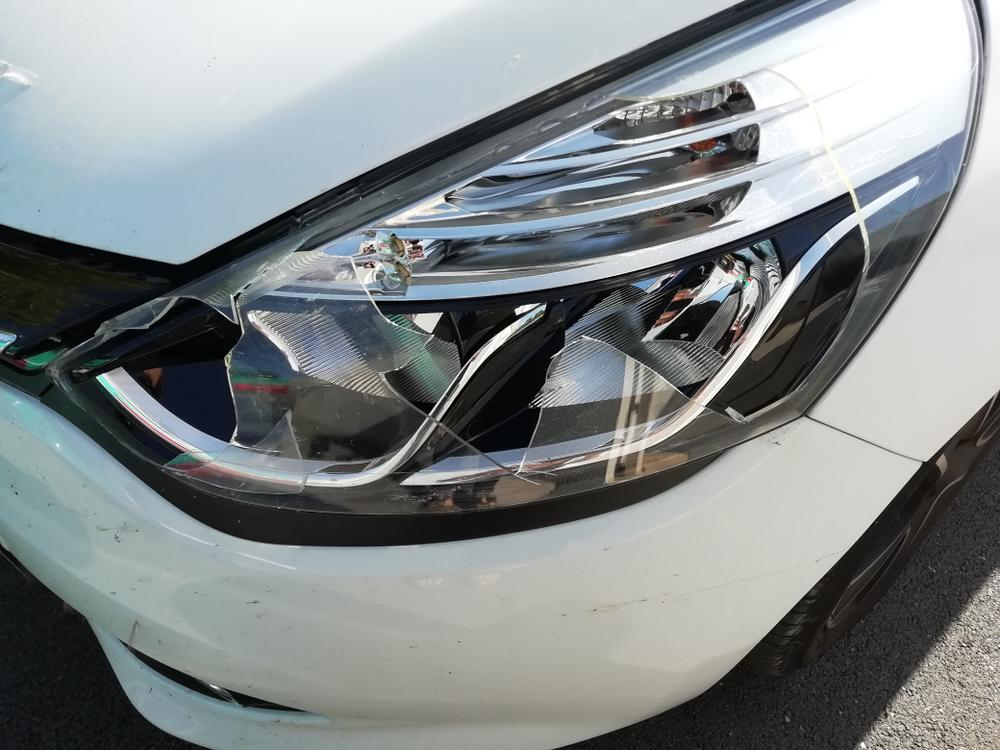lamp broken: (31, 0, 987, 529)
